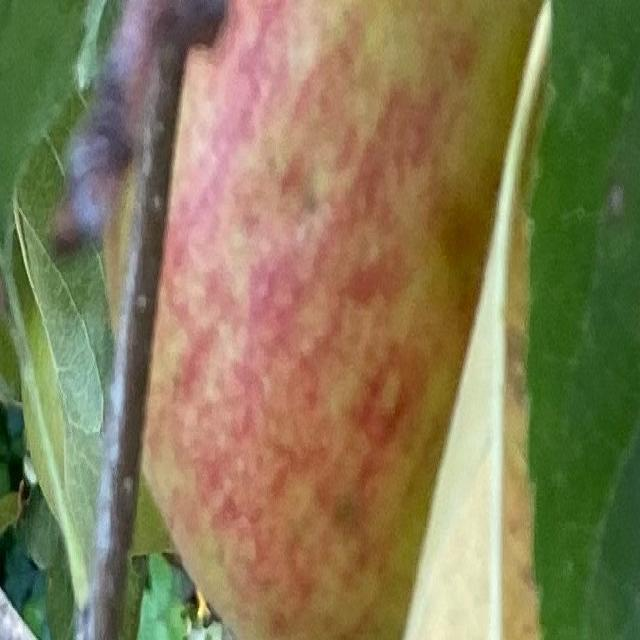100-_ripeness: (111, 0, 539, 640)
